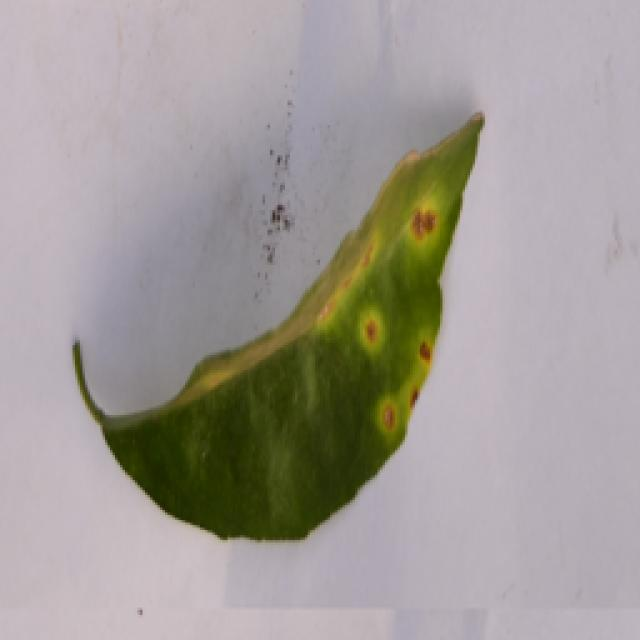canker: (288, 136, 486, 450)
